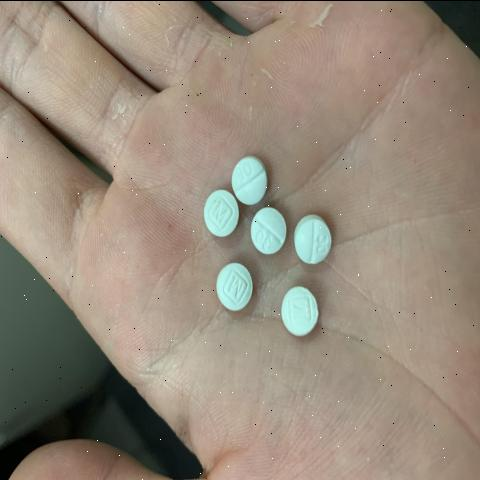Pill: (266, 267, 343, 353), (287, 193, 347, 269), (230, 136, 282, 201), (205, 258, 261, 316), (193, 180, 246, 240), (248, 200, 287, 260)
